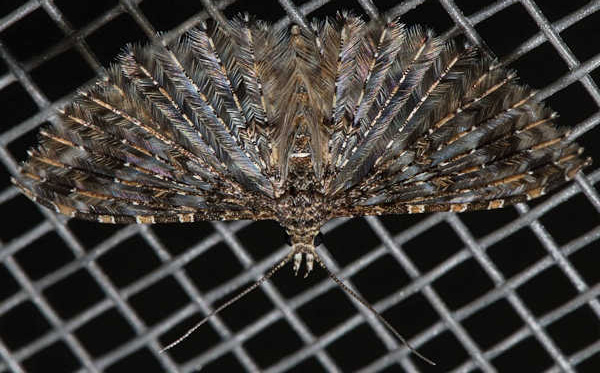Alucitidae: (5, 5, 595, 366)
moth: (7, 7, 597, 368)
